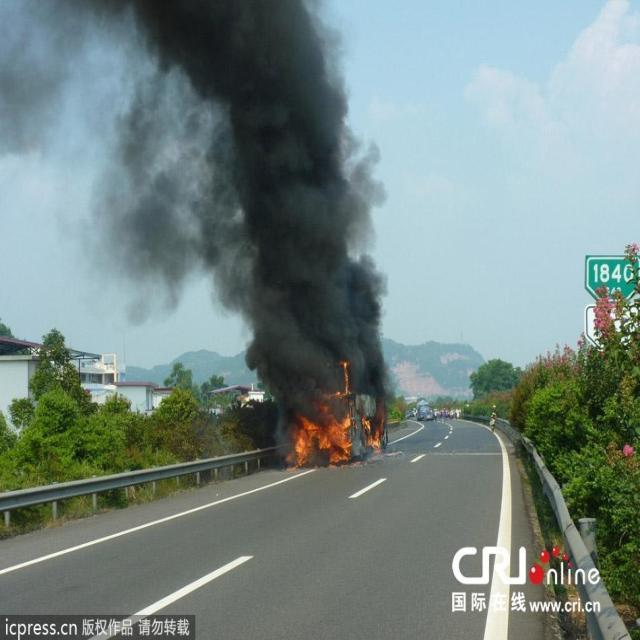Fire: (286, 358, 354, 471), (362, 414, 387, 456)
Smoke: (1, 1, 398, 459)
